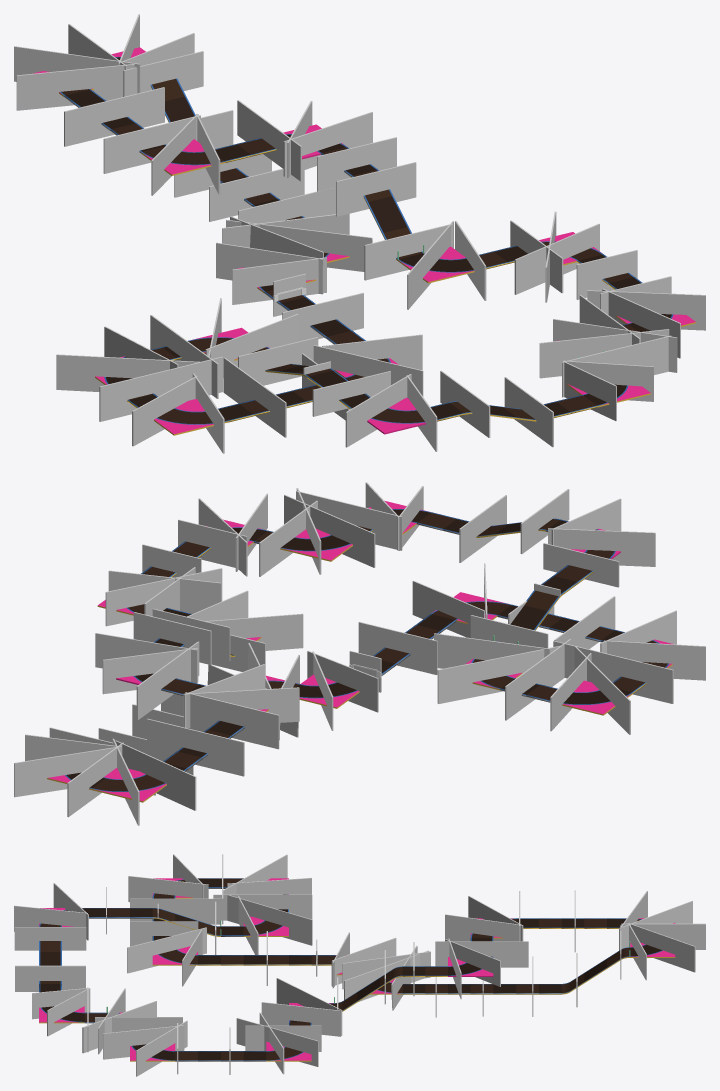
Rendered from Track01.fbx.
The picture shows the model from 3 angles, top to bottom: view 1: azimuth 30°, elevation 25°; view 2: azimuth 150°, elevation 25°; view 3: azimuth 270°, elevation 25°; orthographic projection. The views are drawn at different scales.
Parts seen in each view (by area): view 1: Waypoint__45_, Waypoint__44_, Waypoint__7_, Waypoint__8_, Waypoint__53_, Waypoint__36_, Waypoint__59_, Waypoint__43_, Waypoint__56_, Waypoint__37_, Waypoint__30_, Waypoint__35_ (+48 smaller); view 2: Waypoint__44_, Waypoint__11_, Waypoint__43_, Waypoint__16_, Waypoint__7_, Waypoint__48_, Waypoint__6_, Waypoint, Waypoint__34_, Waypoint__42_, Waypoint__23_, Waypoint__22_ (+47 smaller); view 3: Waypoint__33_, Waypoint__11_, Waypoint__40_, Waypoint__4_, Waypoint__19_, Waypoint__41_, Waypoint__2_, Waypoint__18_, Waypoint__26_, Waypoint__5_, Waypoint__10_, Waypoint__48_ (+35 smaller).
Part boxes in pixels (x1,y1,x2,y2): Waypoint__45_: [16, 64, 134, 110]; Waypoint__44_: [64, 87, 164, 146]; Waypoint__7_: [99, 356, 223, 421]; Waypoint__8_: [56, 354, 199, 391]; Waypoint__53_: [209, 168, 304, 221]; Waypoint__36_: [336, 162, 416, 216]; Waypoint__59_: [232, 257, 326, 304]; Waypoint__43_: [103, 115, 200, 173]; Waypoint__56_: [226, 219, 372, 271]; Waypoint__37_: [317, 137, 396, 191]; Waypoint__30_: [514, 223, 599, 294]; Waypoint__35_: [364, 224, 452, 280]; Waypoint__44_: [147, 718, 244, 776]; Waypoint__11_: [437, 645, 560, 703]; Waypoint__43_: [185, 692, 279, 749]; Waypoint__16_: [548, 528, 655, 566]; Waypoint__7_: [553, 640, 673, 703]; Waypoint__48_: [14, 746, 121, 797]; Waypoint__6_: [603, 640, 705, 680]; Waypoint: [358, 622, 437, 674]; Waypoint__34_: [206, 613, 303, 650]; Waypoint__42_: [183, 687, 299, 727]; Waypoint__23_: [284, 495, 375, 567]; Waypoint__22_: [296, 491, 402, 550]; Waypoint__33_: [261, 1002, 341, 1036]; Waypoint__11_: [227, 894, 312, 945]; Waypoint__40_: [435, 941, 528, 967]; Waypoint__4_: [130, 898, 220, 924]; Waypoint__19_: [15, 965, 85, 991]; Waypoint__41_: [445, 914, 523, 941]; Waypoint__2_: [127, 927, 206, 973]; Waypoint__18_: [14, 927, 86, 950]; Waypoint__26_: [103, 1025, 184, 1059]; Waypoint__5_: [128, 876, 208, 902]; Waypoint__10_: [213, 894, 312, 920]; Waypoint__48_: [627, 923, 695, 972].
Size of what is drawn, in the model's own units: 41145 by 6155 by 60922.
